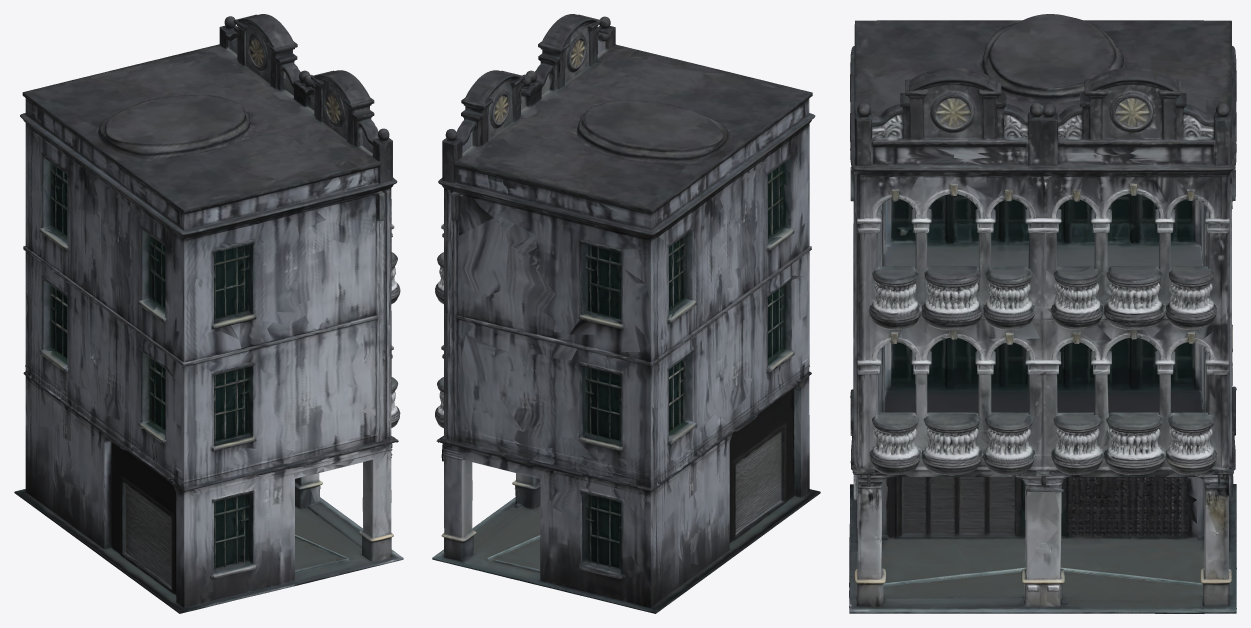
3 renders of one model, left to right at view 1: azimuth 30°, elevation 25°; view 2: azimuth 150°, elevation 25°; view 3: azimuth 270°, elevation 25°, orthographic. The views are drawn at different scales.
Visible parts, largest first — view 1: tripo_node_5572e0db; view 2: tripo_node_5572e0db; view 3: tripo_node_5572e0db.
Boxes of the visible parts, left/top/right/bottom form: tripo_node_5572e0db: left=14, top=14, right=403, bottom=613; tripo_node_5572e0db: left=432, top=14, right=820, bottom=613; tripo_node_5572e0db: left=849, top=14, right=1236, bottom=613.
Size of the model in its own units: 0.5365 by 0.9804 by 0.6476.
1 material, 1 textured.
